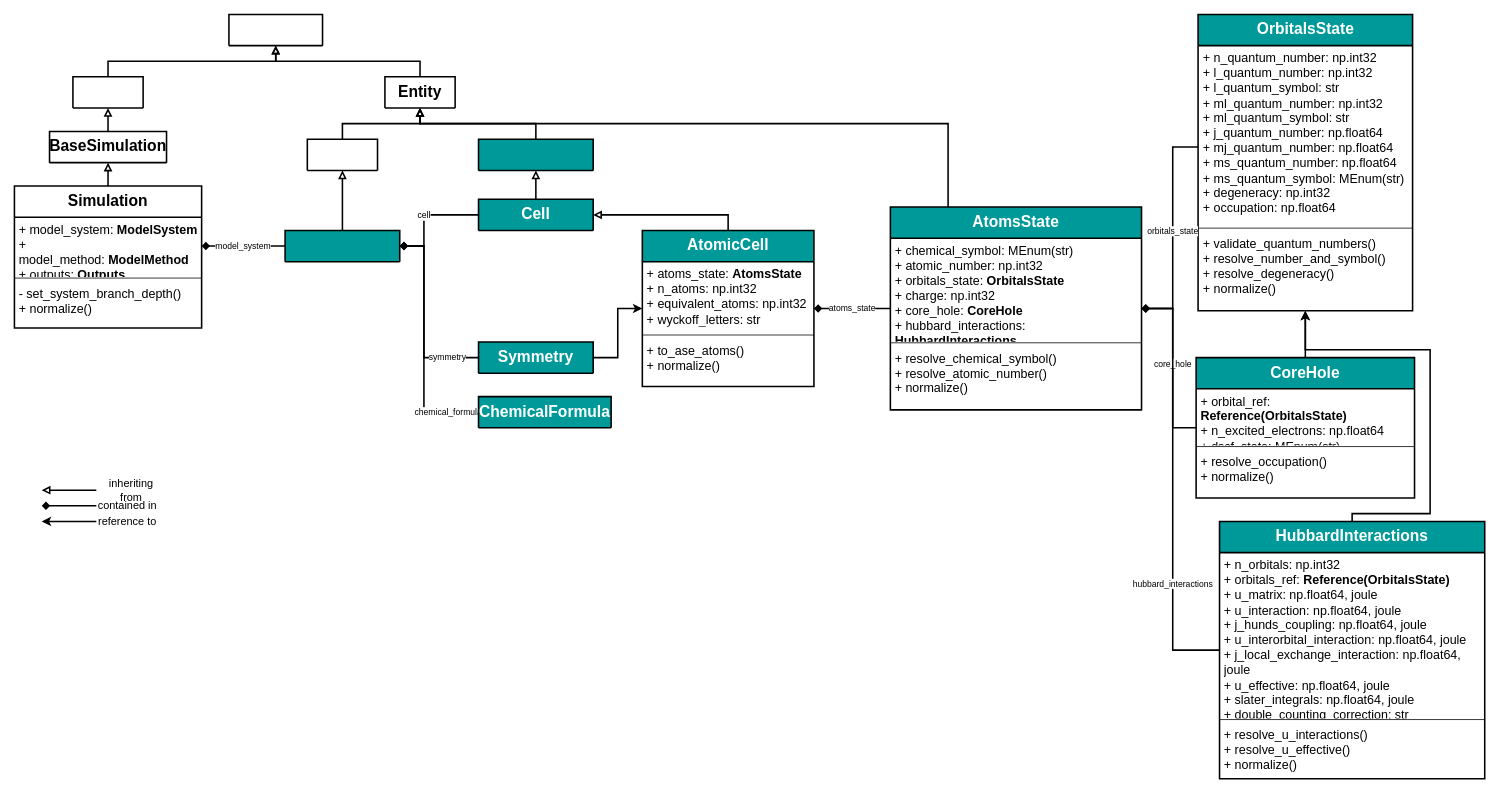
Some shapes in this 1498 by 794 pixel diagram are drawn without their labels. Here are the shapes that lost their labels. From the top down, the centre of each, then its label:
At point (275, 29): "BaseSection".
At point (108, 92): "Activity".
At point (342, 154): "System".
At point (535, 154): "GeometricSpace".
At point (342, 245): "ModelSystem".
